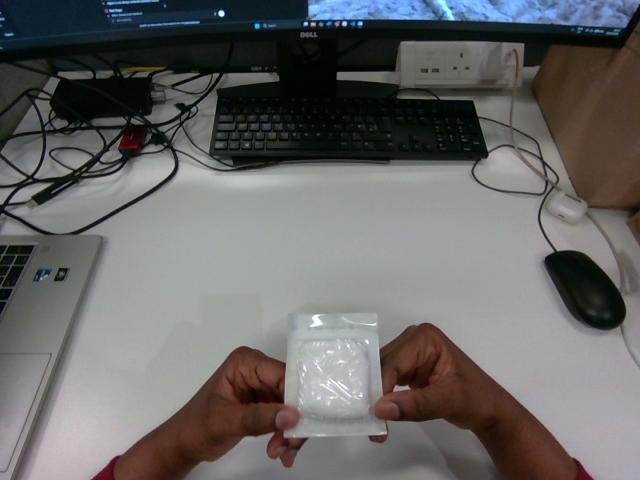gauze: (285, 313, 386, 437)
